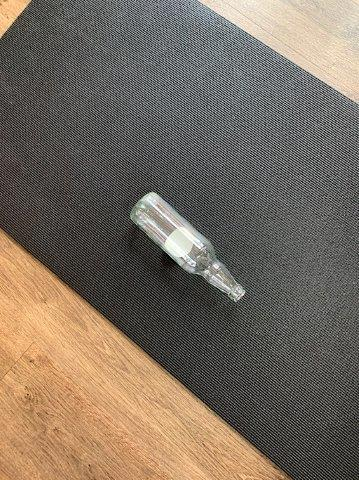botolkaca: (127, 192, 247, 302)
